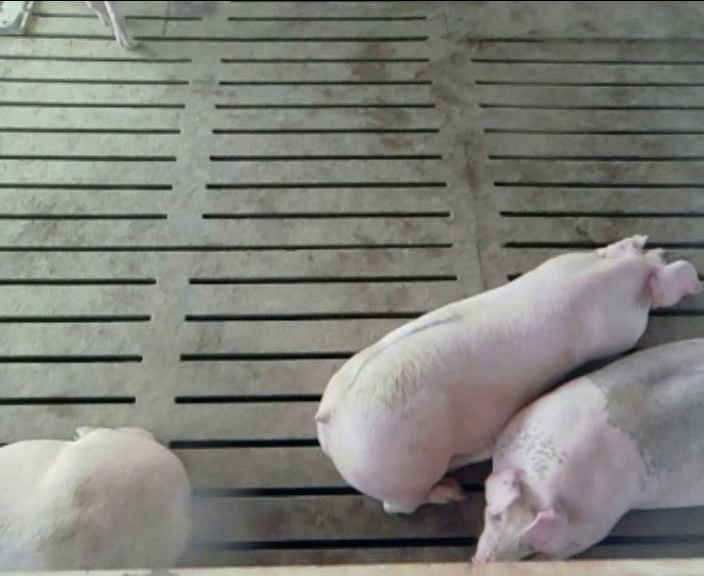pig: (316, 236, 699, 512), (474, 339, 703, 561), (0, 428, 190, 569)
